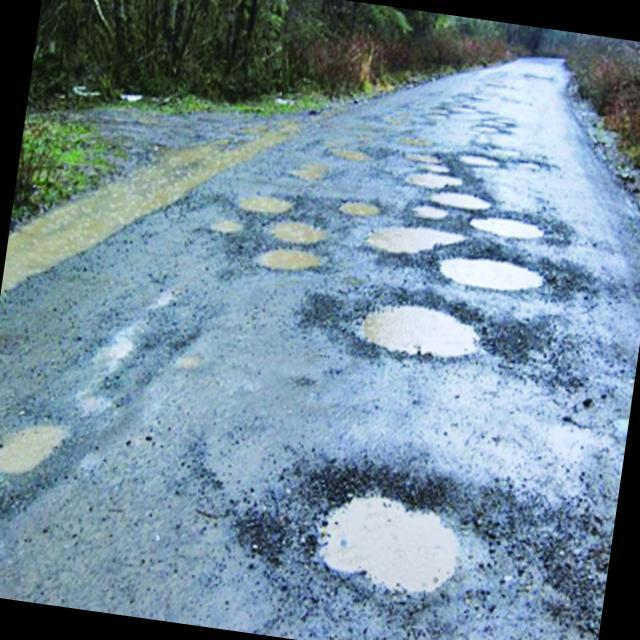Pothole: (272, 462, 486, 612), (346, 290, 502, 374), (0, 404, 60, 507), (439, 248, 557, 298), (356, 212, 463, 262), (468, 211, 577, 258), (256, 242, 354, 286), (318, 186, 401, 237), (260, 212, 346, 260), (428, 190, 502, 222), (286, 154, 338, 190), (449, 154, 514, 182), (238, 195, 299, 220), (318, 144, 372, 170), (406, 173, 468, 194), (412, 200, 454, 227), (214, 212, 254, 240), (406, 164, 456, 181), (402, 150, 446, 168)
